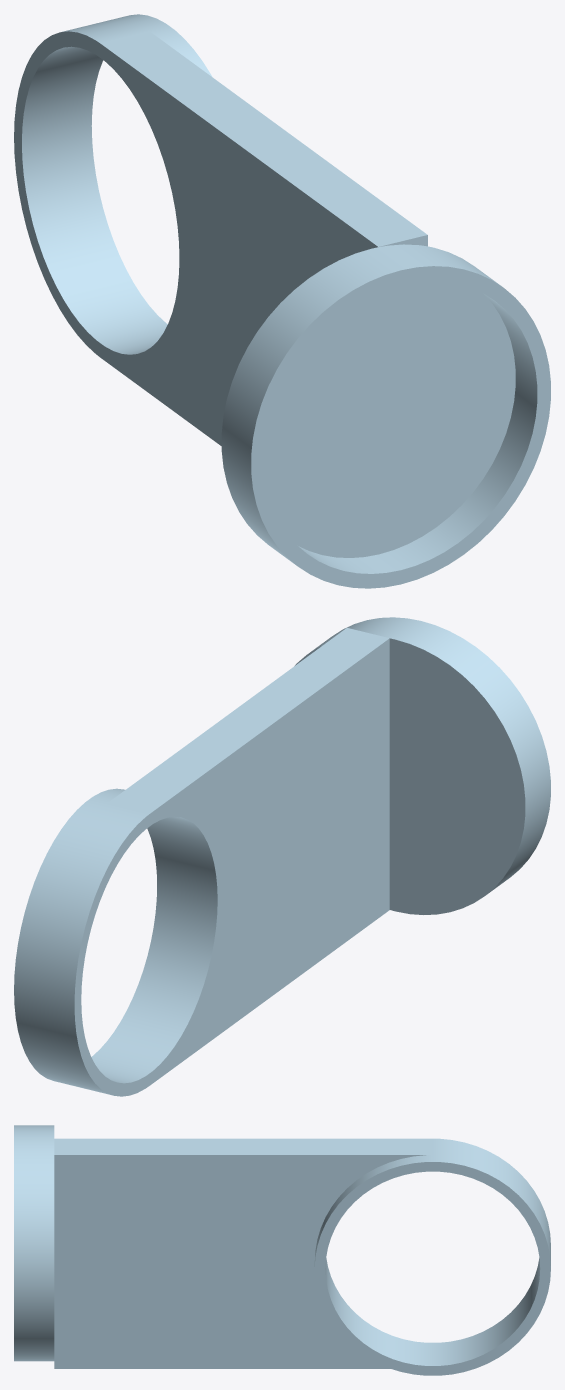
File: Thigh.obj
3 renders of one model, top to bottom at view 1: azimuth 30°, elevation 25°; view 2: azimuth 150°, elevation 25°; view 3: azimuth 270°, elevation 25°, orthographic. The views are drawn at different scales.
Parts seen in each view (by area): view 1: mesh163, mesh174, mesh177, mesh172, mesh165, mesh166, mesh164, mesh175; view 2: mesh174, mesh167, mesh175, mesh177, mesh172, mesh166; view 3: mesh171, mesh166, mesh176, mesh172, mesh177, mesh175.
Part boxes in pixels (x1,y1,x2,y2): mesh163: (265, 280, 515, 557); mesh174: (14, 31, 377, 445); mesh177: (22, 46, 167, 354); mesh172: (101, 31, 427, 246); mesh165: (251, 266, 550, 588); mesh166: (221, 244, 501, 565); mesh164: (298, 293, 537, 573); mesh175: (62, 14, 212, 76); mesh174: (74, 638, 389, 1096); mesh167: (389, 638, 525, 914); mesh175: (14, 788, 148, 1095); mesh177: (91, 817, 217, 1083); mesh172: (107, 628, 389, 813); mesh166: (310, 617, 550, 894); mesh171: (54, 1155, 425, 1368); mesh166: (14, 1125, 54, 1361); mesh176: (314, 1162, 550, 1375); mesh172: (54, 1138, 432, 1154); mesh177: (325, 1258, 540, 1365); mesh175: (314, 1138, 550, 1266).
Size of the model in its own units: 0.0879 by 0.088 by 0.2.
